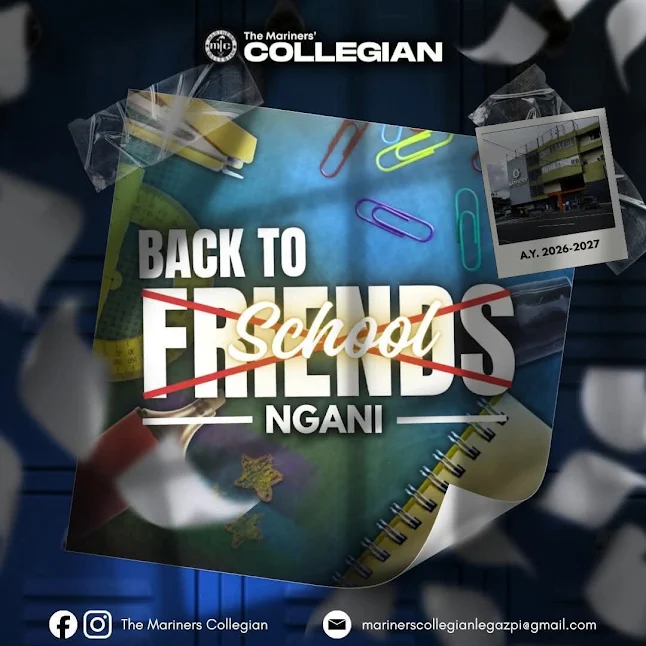embellishment: (79, 607, 116, 641), (45, 606, 80, 641), (320, 608, 356, 642)
logo: (203, 27, 239, 65)
text: (137, 282, 524, 401), (225, 298, 451, 368), (135, 223, 315, 282), (242, 27, 448, 68), (260, 398, 391, 441), (359, 616, 603, 634), (118, 615, 272, 633)
